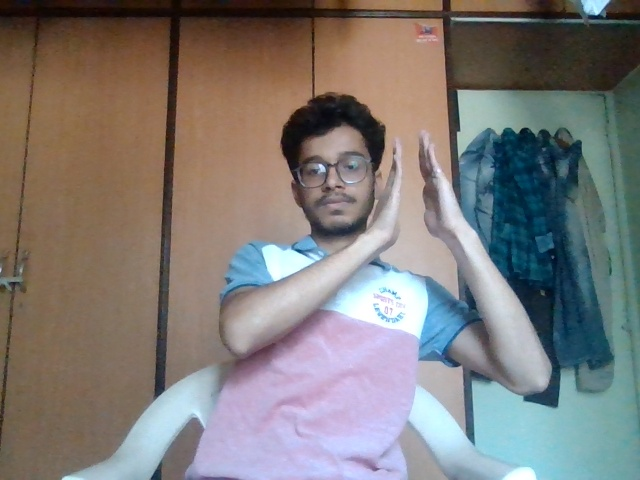morning: (363, 124, 500, 268)
